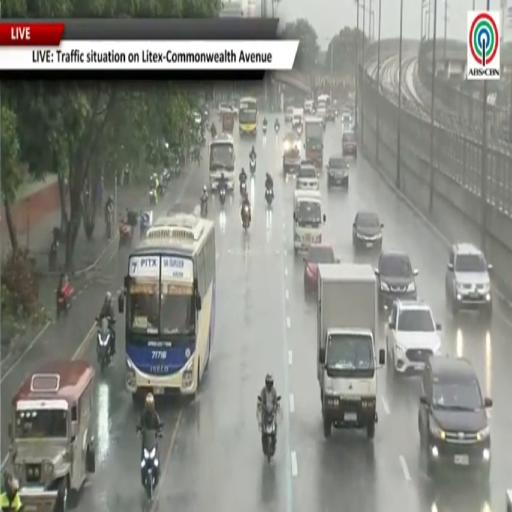bus: (119, 212, 215, 403), (209, 134, 235, 190), (239, 98, 257, 136)
car: (418, 356, 492, 482), (386, 300, 441, 374), (445, 244, 492, 316), (375, 251, 418, 309), (304, 245, 339, 295), (353, 211, 383, 249), (326, 155, 349, 188), (283, 132, 301, 174), (296, 163, 319, 189), (342, 132, 357, 158), (219, 103, 238, 118), (341, 109, 352, 126), (326, 106, 336, 121), (304, 99, 314, 114), (285, 106, 293, 122)
jeepney: (9, 361, 95, 511), (222, 112, 234, 134)
motorcycle: (138, 426, 162, 500), (258, 396, 281, 462), (96, 317, 114, 371), (57, 281, 73, 318), (48, 228, 60, 271), (119, 221, 133, 247), (49, 238, 58, 271), (140, 213, 151, 238), (242, 204, 250, 231), (106, 208, 112, 239), (149, 187, 157, 205), (265, 188, 273, 205), (219, 187, 226, 206), (201, 199, 207, 217), (240, 182, 247, 197), (250, 157, 255, 174), (295, 124, 302, 135), (274, 124, 279, 133), (263, 124, 267, 135)
truck: (317, 263, 385, 439), (304, 117, 324, 169)
